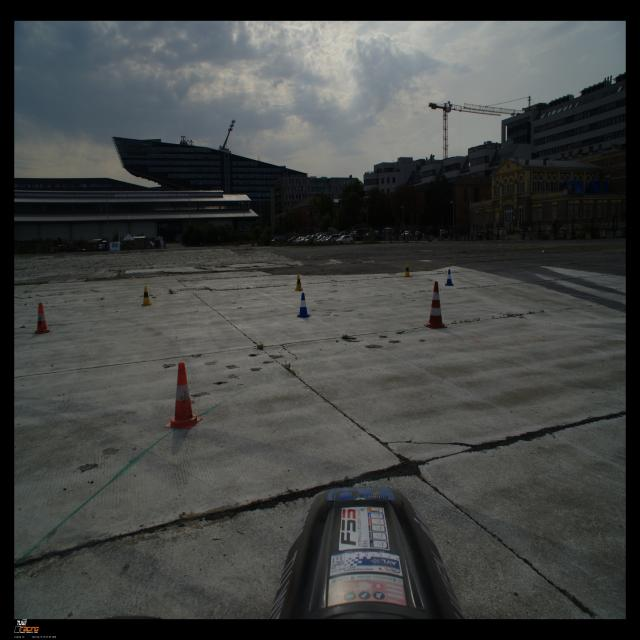blue_cone: (295, 292, 312, 318), (445, 269, 453, 286)
large_orange_cone: (423, 281, 448, 329)
orange_cone: (165, 362, 202, 430), (32, 303, 53, 334)
yellow_cone: (141, 286, 152, 306), (294, 274, 304, 291), (403, 263, 411, 277)
